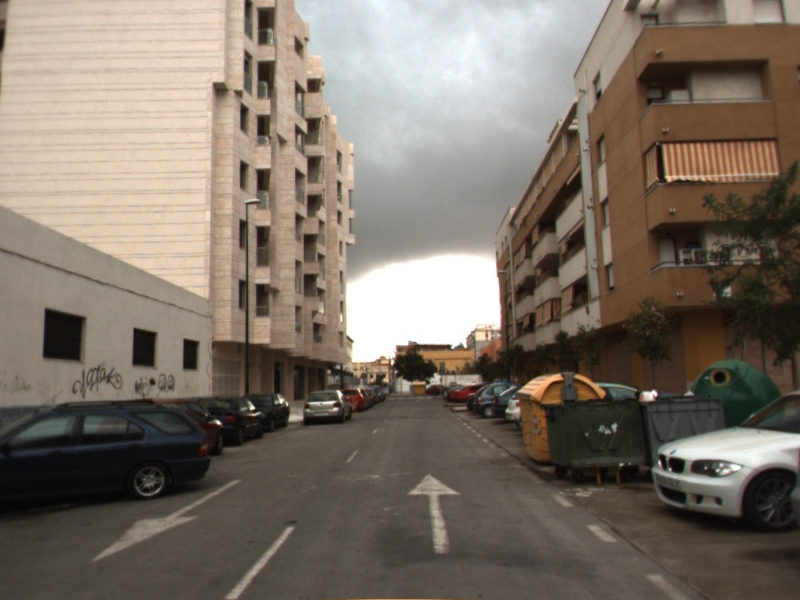STRAIGHT: (404, 471, 466, 556)
